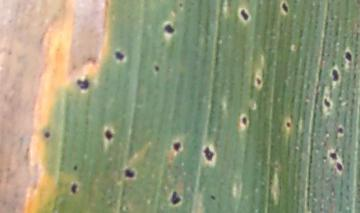tarspot: (75, 76, 90, 90), (202, 145, 215, 161), (170, 190, 181, 205), (330, 66, 340, 82), (123, 167, 136, 179), (163, 24, 175, 35), (343, 48, 353, 61), (114, 50, 125, 61), (171, 140, 181, 152), (105, 129, 114, 141), (240, 8, 249, 20), (334, 161, 343, 172), (322, 97, 331, 108), (281, 2, 289, 14), (328, 151, 338, 160), (241, 115, 249, 126), (43, 131, 52, 139), (254, 77, 262, 86), (71, 182, 77, 194), (210, 193, 217, 202), (154, 65, 161, 73), (177, 1, 184, 9), (337, 126, 344, 134), (285, 119, 291, 128), (71, 164, 78, 171)
